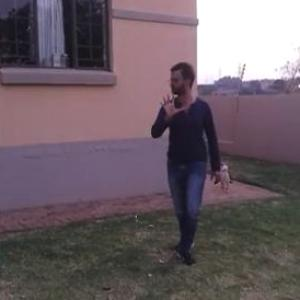follow_hand: (157, 88, 185, 120)
